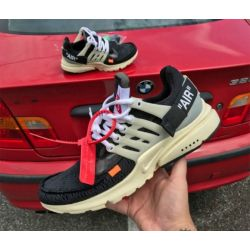Nike x OFF--WHITE Air Presto OG: (35, 63, 225, 217), (56, 25, 142, 78)
